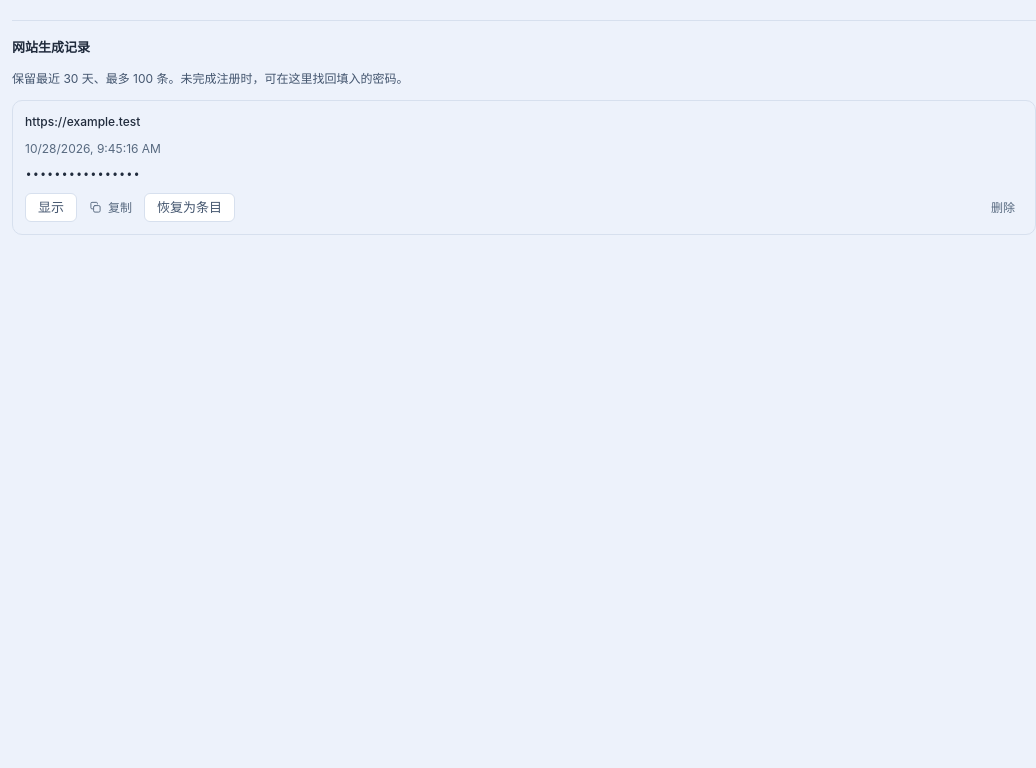
Test: loads only history metadata; revealing and restoring require separate clicks
Expected: the text "generated-secret" is not shown
Click the button "显示" at (51, 208), box left=25, top=193, right=77, bottom=222
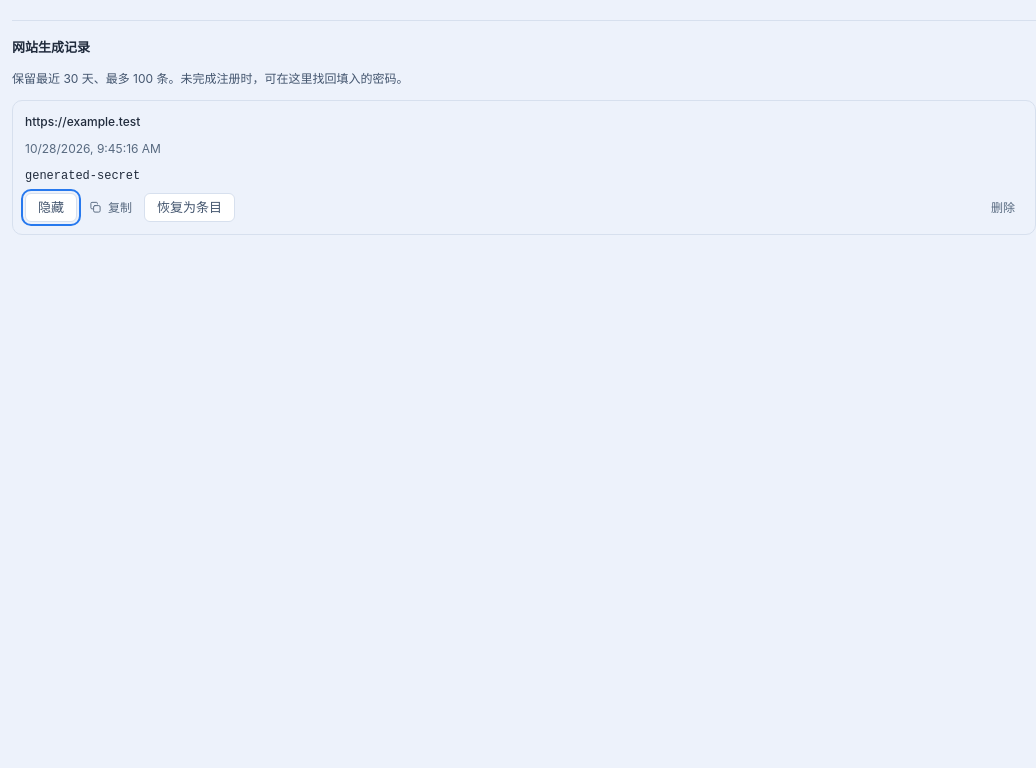
Result: the text "generated-secret" is shown at left=25, top=169, right=140, bottom=183
Click the button "隐藏" at (51, 208), box left=25, top=193, right=77, bottom=222
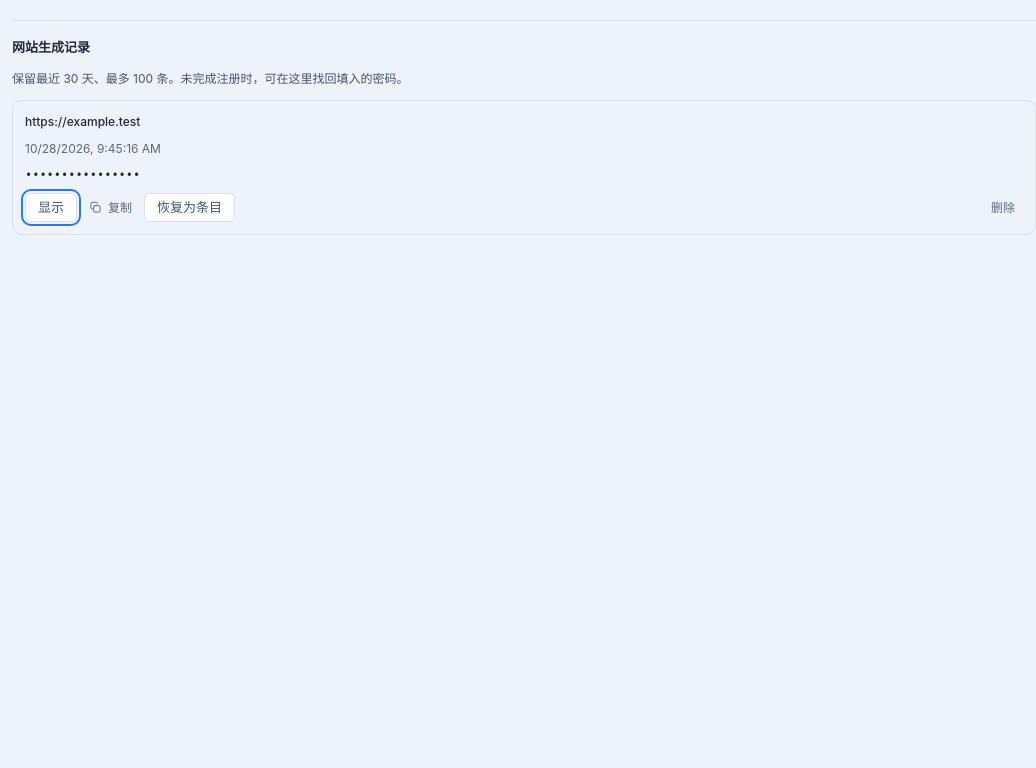
Result: the text "generated-secret" is gone
Click the button "恢复为条目" at (190, 208), box left=144, top=193, right=235, bottom=222
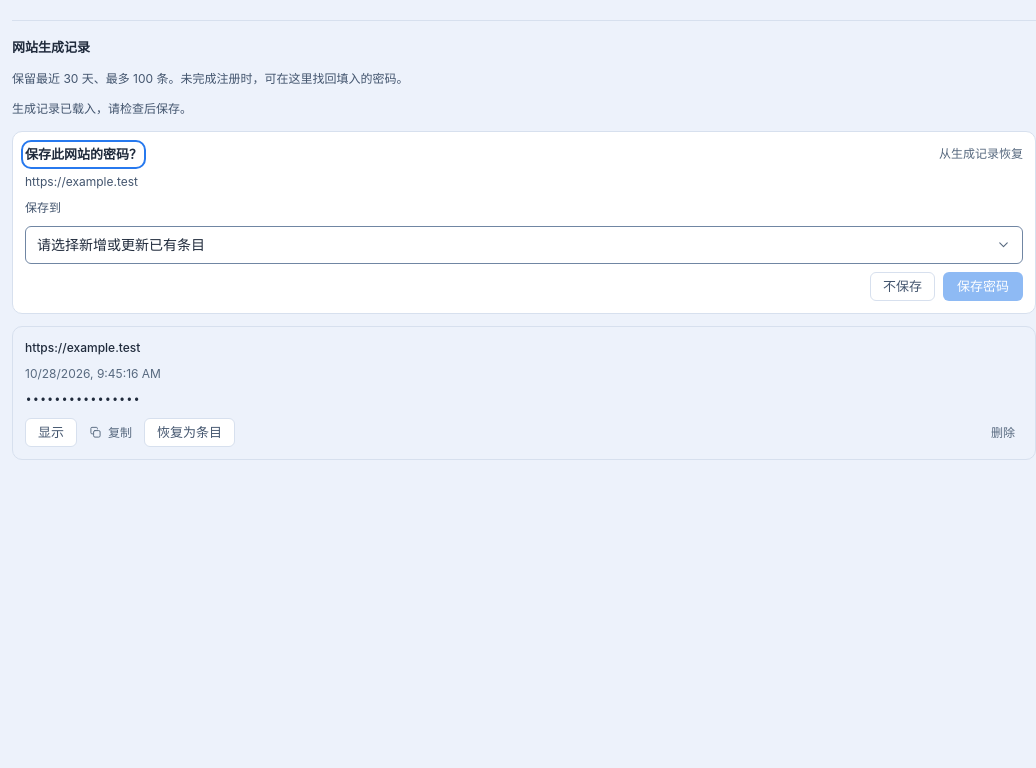
Result: the button "保存密码" is disabled at left=943, top=272, right=1023, bottom=301
Click the dropdown labelled "请选择新增或更新已有条目" at (121, 244), box left=25, top=226, right=1023, bottom=264
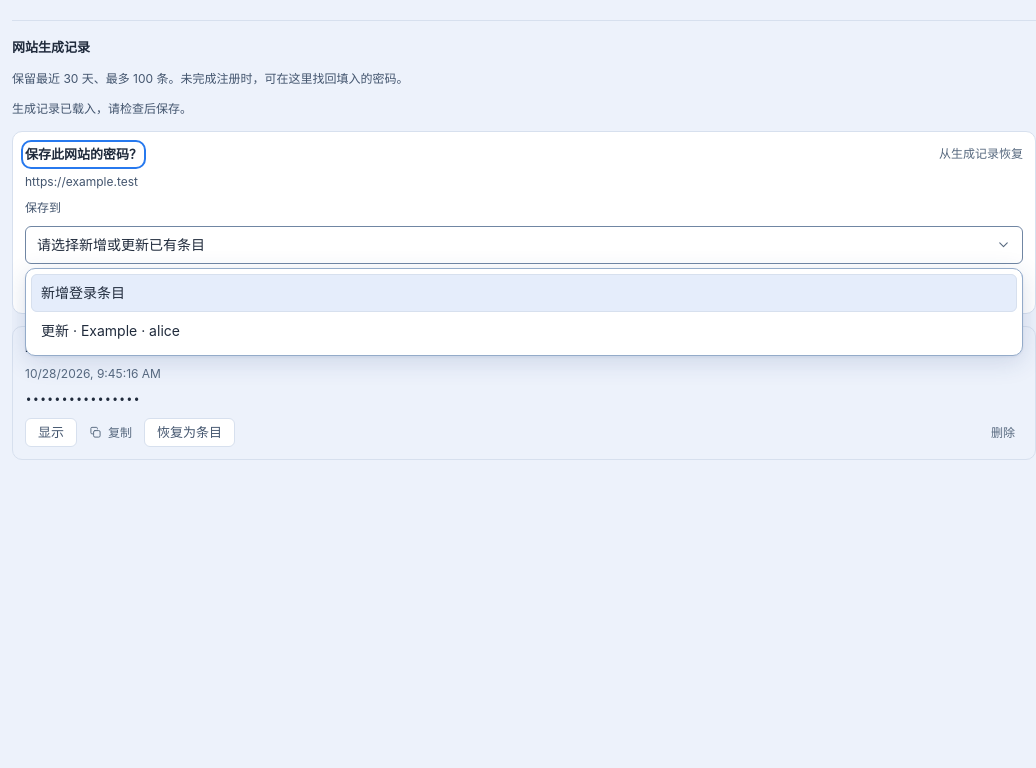
Click the option "新增登录条目" at (83, 292), box left=31, top=274, right=1017, bottom=312
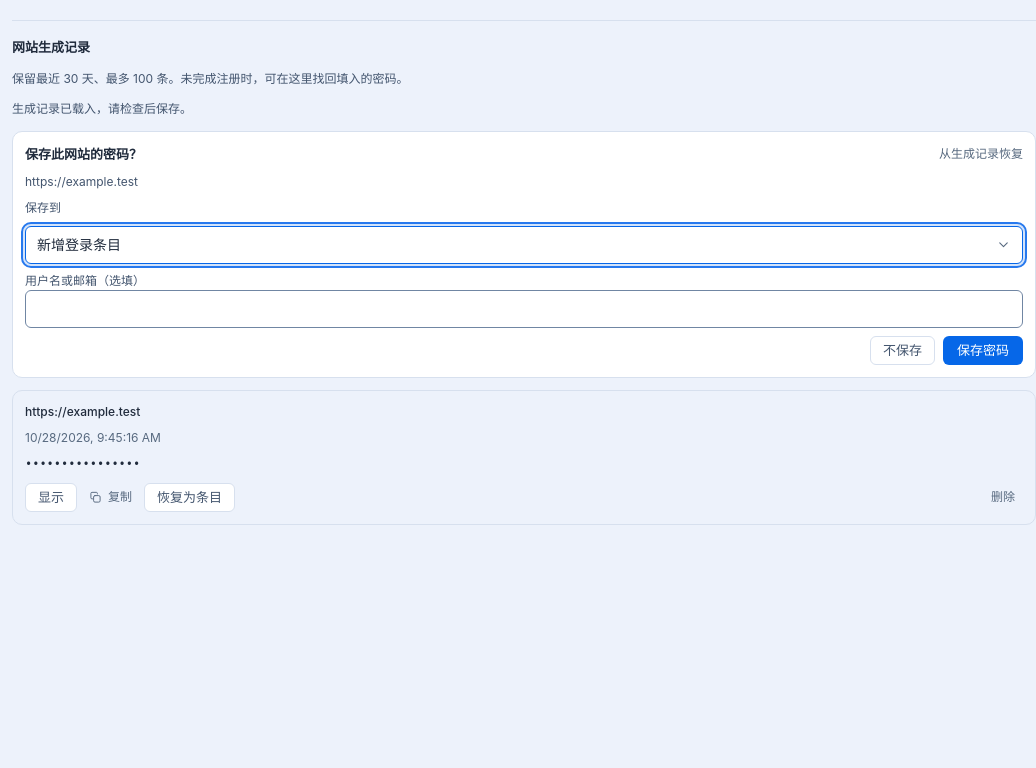
Click the button "保存密码" at (983, 350), box left=943, top=336, right=1023, bottom=365
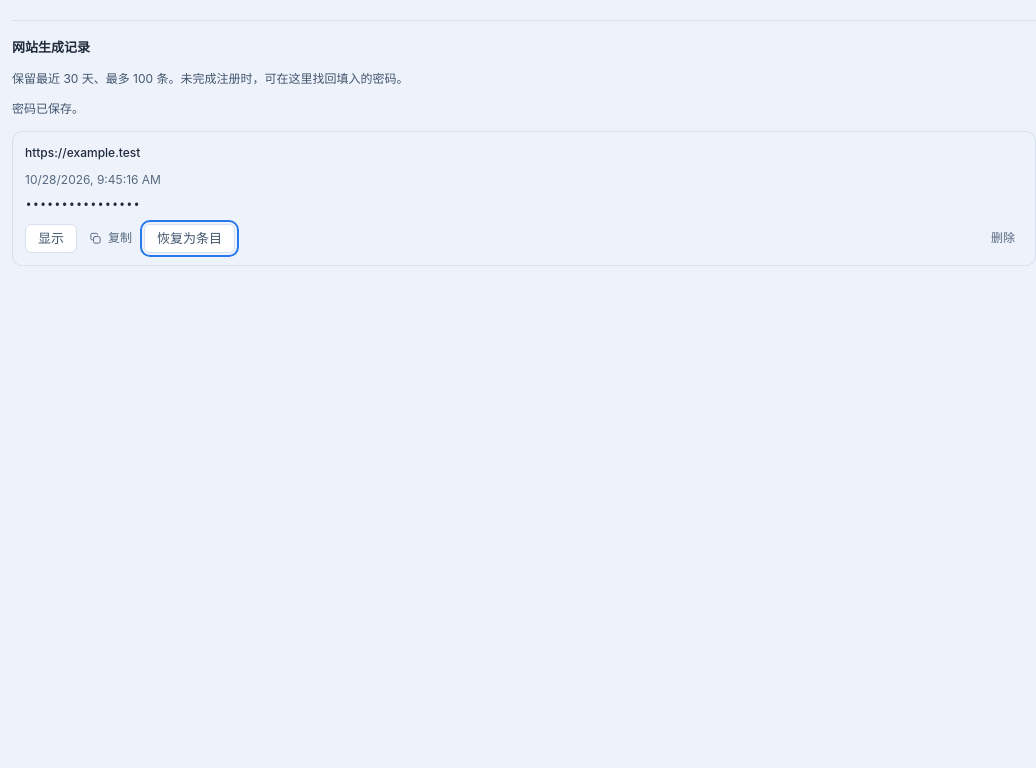
Result: the text "密码已保存。" is shown at left=12, top=101, right=84, bottom=116
